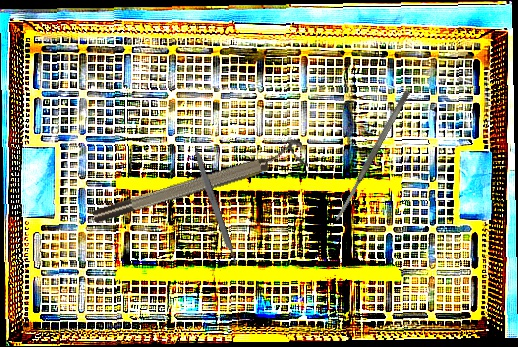Fixation Ring: (88, 136, 309, 228)
Scalpel Handle: (190, 145, 239, 267)
Spatula Surgical: (332, 88, 412, 224)
